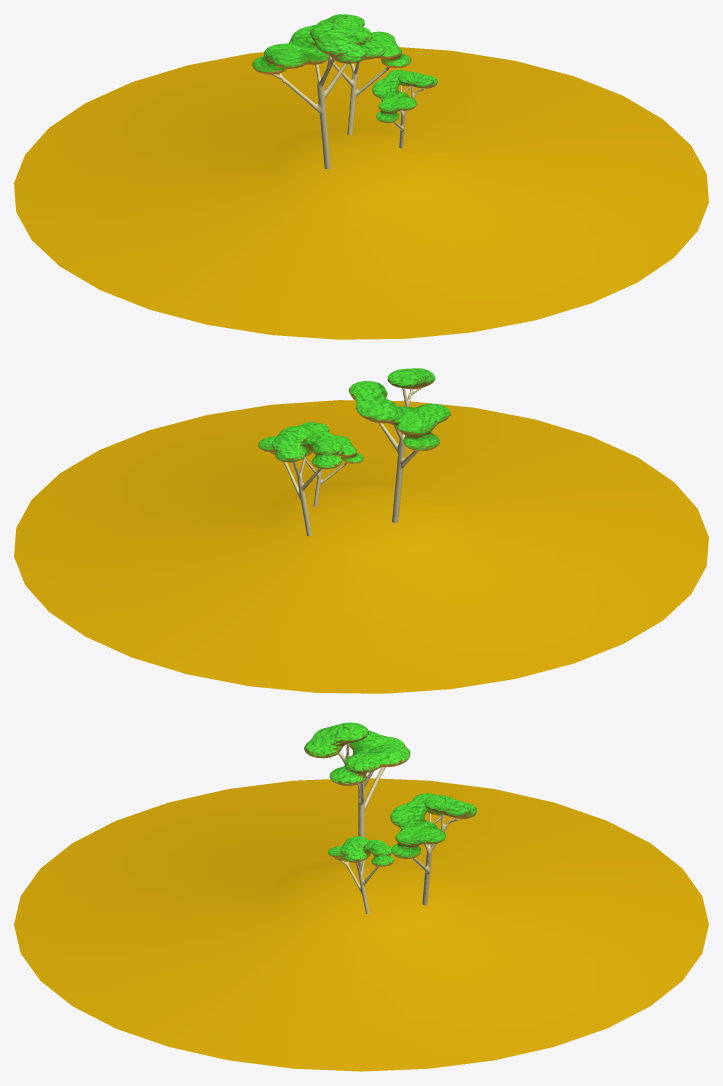
File: island.glb
3 renders of one model, top to bottom at view 1: azimuth 30°, elevation 25°; view 2: azimuth 150°, elevation 25°; view 3: azimuth 270°, elevation 25°, orthographic.
Parts seen in each view (by area): view 1: Sphere, Leaves, Leaves.002, Tree, Leaves.001, Tree.002; view 2: Sphere, Leaves, Leaves.001, Tree, Tree.002, Leaves.002; view 3: Sphere, Leaves, Leaves.001, Leaves.002, Tree, Tree.002.
Boxes of the visible parts, left/top/right/bottom form: Sphere: left=14, top=47, right=708, bottom=339; Leaves: left=252, top=22, right=385, bottom=74; Leaves.002: left=372, top=69, right=437, bottom=123; Tree: left=271, top=56, right=347, bottom=169; Leaves.001: left=317, top=14, right=411, bottom=68; Tree.002: left=328, top=59, right=389, bottom=134; Sphere: left=14, top=400, right=708, bottom=693; Leaves: left=348, top=368, right=450, bottom=451; Leaves.001: left=258, top=426, right=342, bottom=469; Tree: left=378, top=387, right=422, bottom=523; Tree.002: left=283, top=457, right=321, bottom=536; Leaves.002: left=297, top=422, right=363, bottom=463; Sphere: left=14, top=778, right=708, bottom=1071; Leaves: left=304, top=722, right=410, bottom=785; Leaves.001: left=390, top=793, right=477, bottom=859; Leaves.002: left=328, top=836, right=394, bottom=866; Tree: left=337, top=743, right=386, bottom=875; Tree.002: left=412, top=813, right=458, bottom=905.
Bounding box in the file's own units: 71.25 × 20.29 × 71.25.
Materials: 3 (1 with a texture image).
